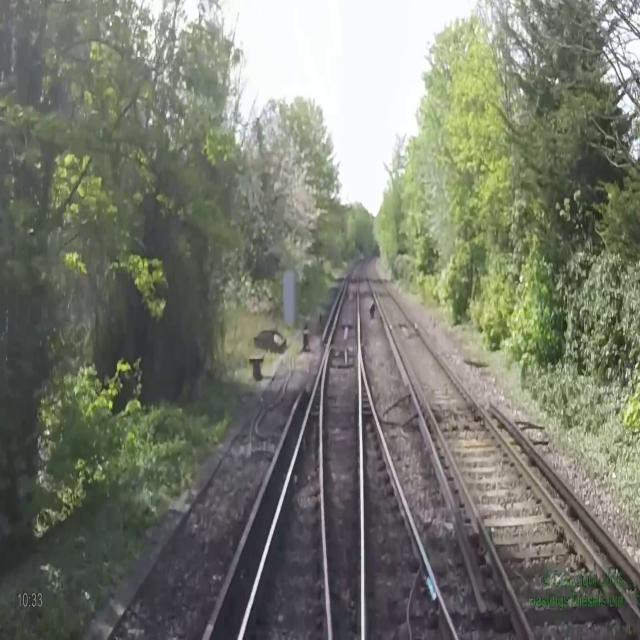rail-track: (370, 257, 640, 639), (361, 370, 454, 639), (238, 376, 327, 639), (323, 255, 365, 639)
